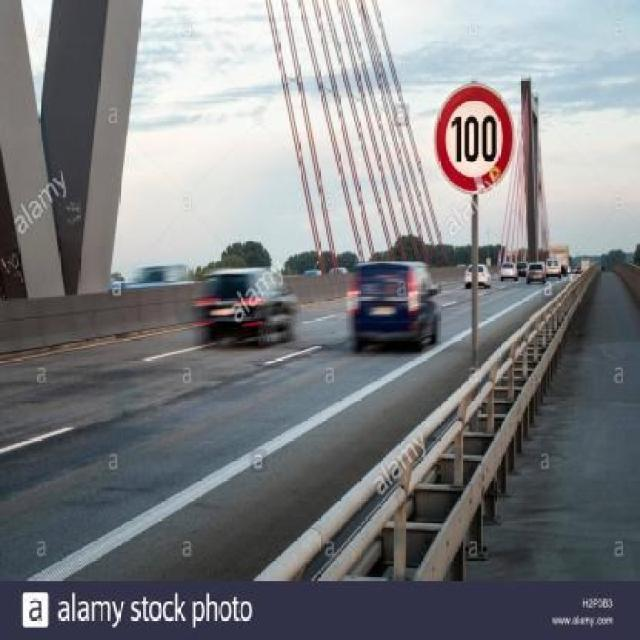forb_speed_over_100: (437, 86, 512, 195)
